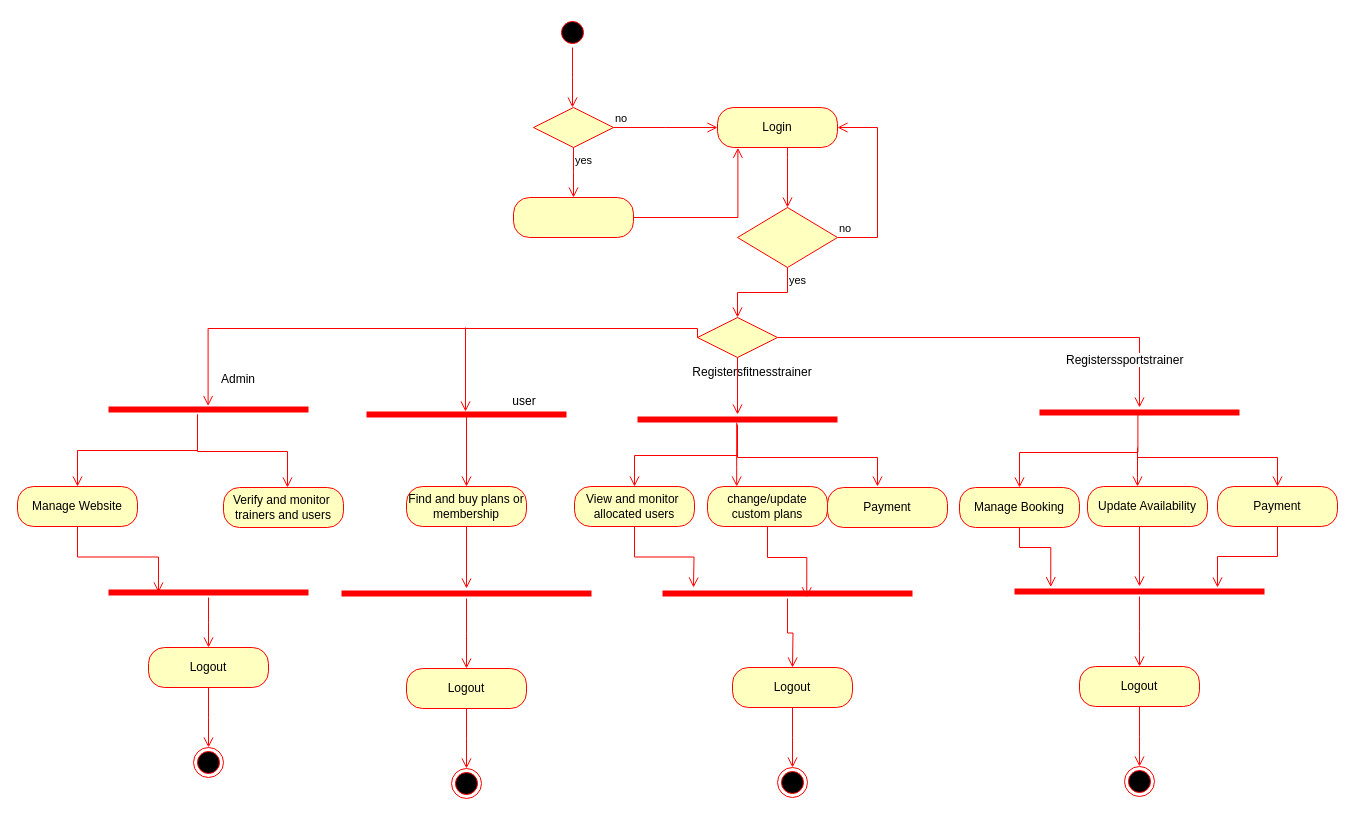
This 1355x816 diagram has some shape labels left out. The shapes that lost their labels are listed below. From the top down, each one's box as (x1, y1, x2, y2) in pixels, then its label:
(532, 106, 614, 148): New User
(512, 196, 634, 238): Register
(736, 206, 838, 268): Login Successful
